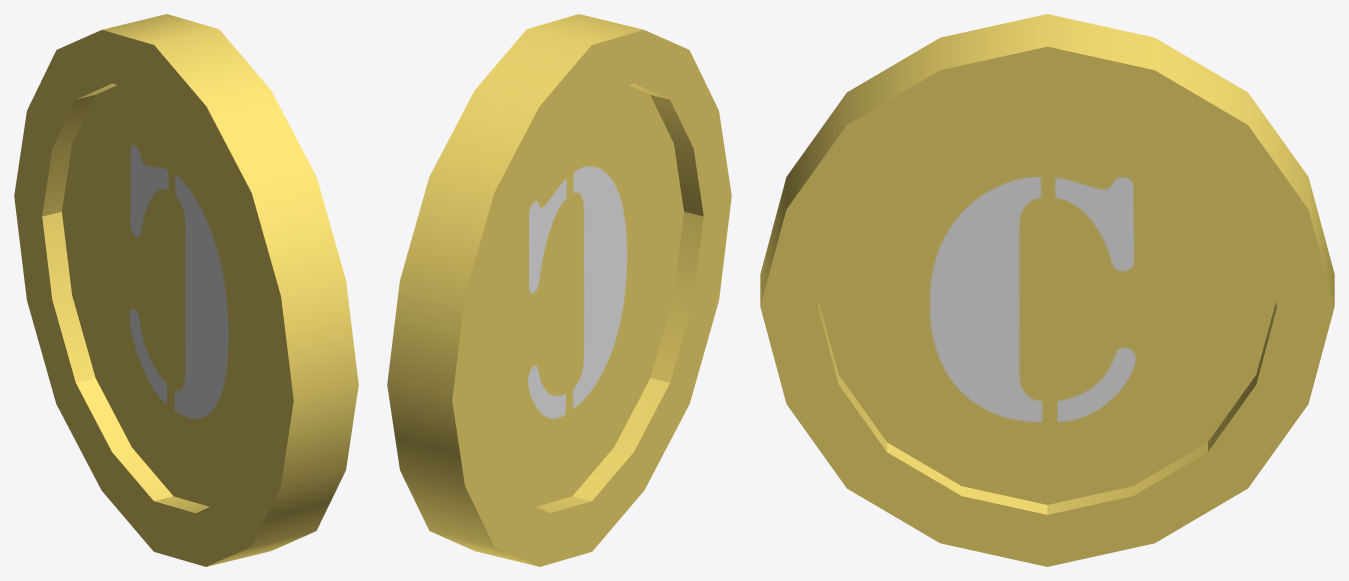
File: Coin.fbx
The picture shows the model from 3 angles, left to right: view 1: azimuth 30°, elevation 25°; view 2: azimuth 150°, elevation 25°; view 3: azimuth 270°, elevation 25°; orthographic projection. The views are drawn at different scales.
Parts seen in each view (by area): view 1: Coin; view 2: Coin; view 3: Coin.
Boxes of the visible parts, <box> form: Coin: <box>14,14,358,566</box>; Coin: <box>387,14,731,566</box>; Coin: <box>760,14,1334,566</box>.
Bounding box in the file's own units: 0.1767 × 1.31 × 1.31.
